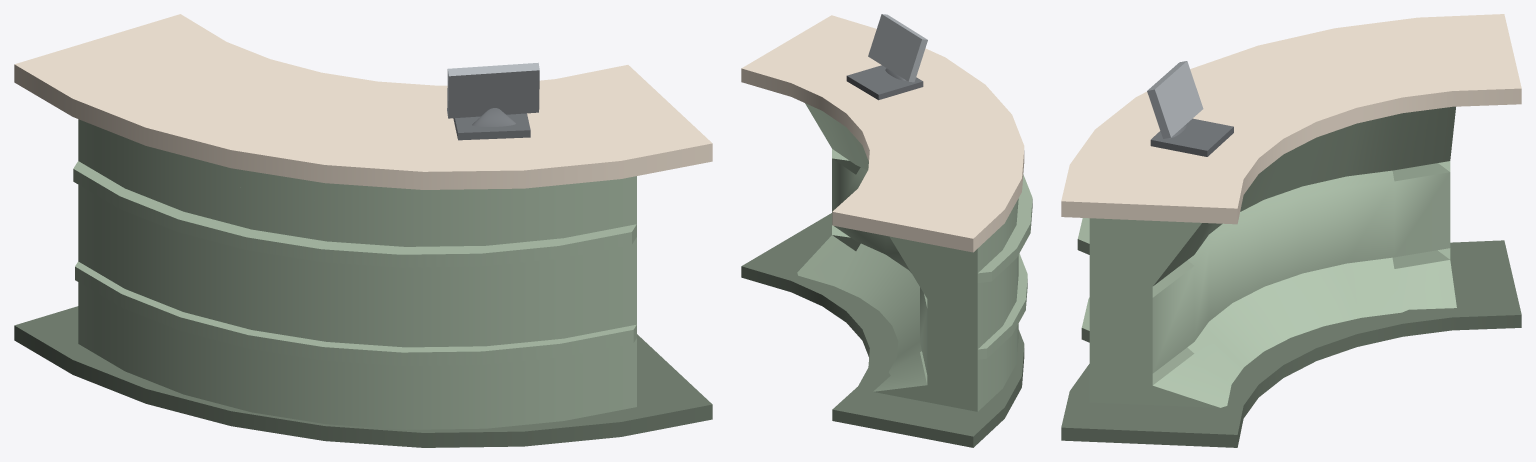
Rendered from disk.ul.fbx.
The picture shows the model from 3 angles, left to right: view 1: azimuth 30°, elevation 25°; view 2: azimuth 150°, elevation 25°; view 3: azimuth 270°, elevation 25°; orthographic projection. The views are drawn at different scales.
Parts seen in each view (by area): view 1: disk, disk.002, disk.001, Cube, PC; view 2: disk.002, disk, disk.001, Cube, PC; view 3: disk, disk.002, disk.001, Cube, PC.
Boxes of the visible parts, left/top/right/bottom form: disk: left=73, top=119, right=636, bottom=429; disk.002: left=14, top=14, right=712, bottom=189; disk.001: left=14, top=306, right=712, bottom=447; Cube: left=447, top=62, right=539, bottom=118; PC: left=453, top=113, right=530, bottom=140; disk.002: left=741, top=15, right=1024, bottom=252; disk: left=797, top=103, right=1032, bottom=411; disk.001: left=741, top=213, right=1024, bottom=447; Cube: left=868, top=14, right=927, bottom=82; PC: left=846, top=65, right=923, bottom=100; disk: left=1077, top=106, right=1456, bottom=407; disk.002: left=1061, top=14, right=1521, bottom=224; disk.001: left=1061, top=240, right=1521, bottom=447; Cube: left=1147, top=61, right=1203, bottom=138; PC: left=1150, top=118, right=1233, bottom=156.
Size of the model in its own units: 260 by 187 by 260.
